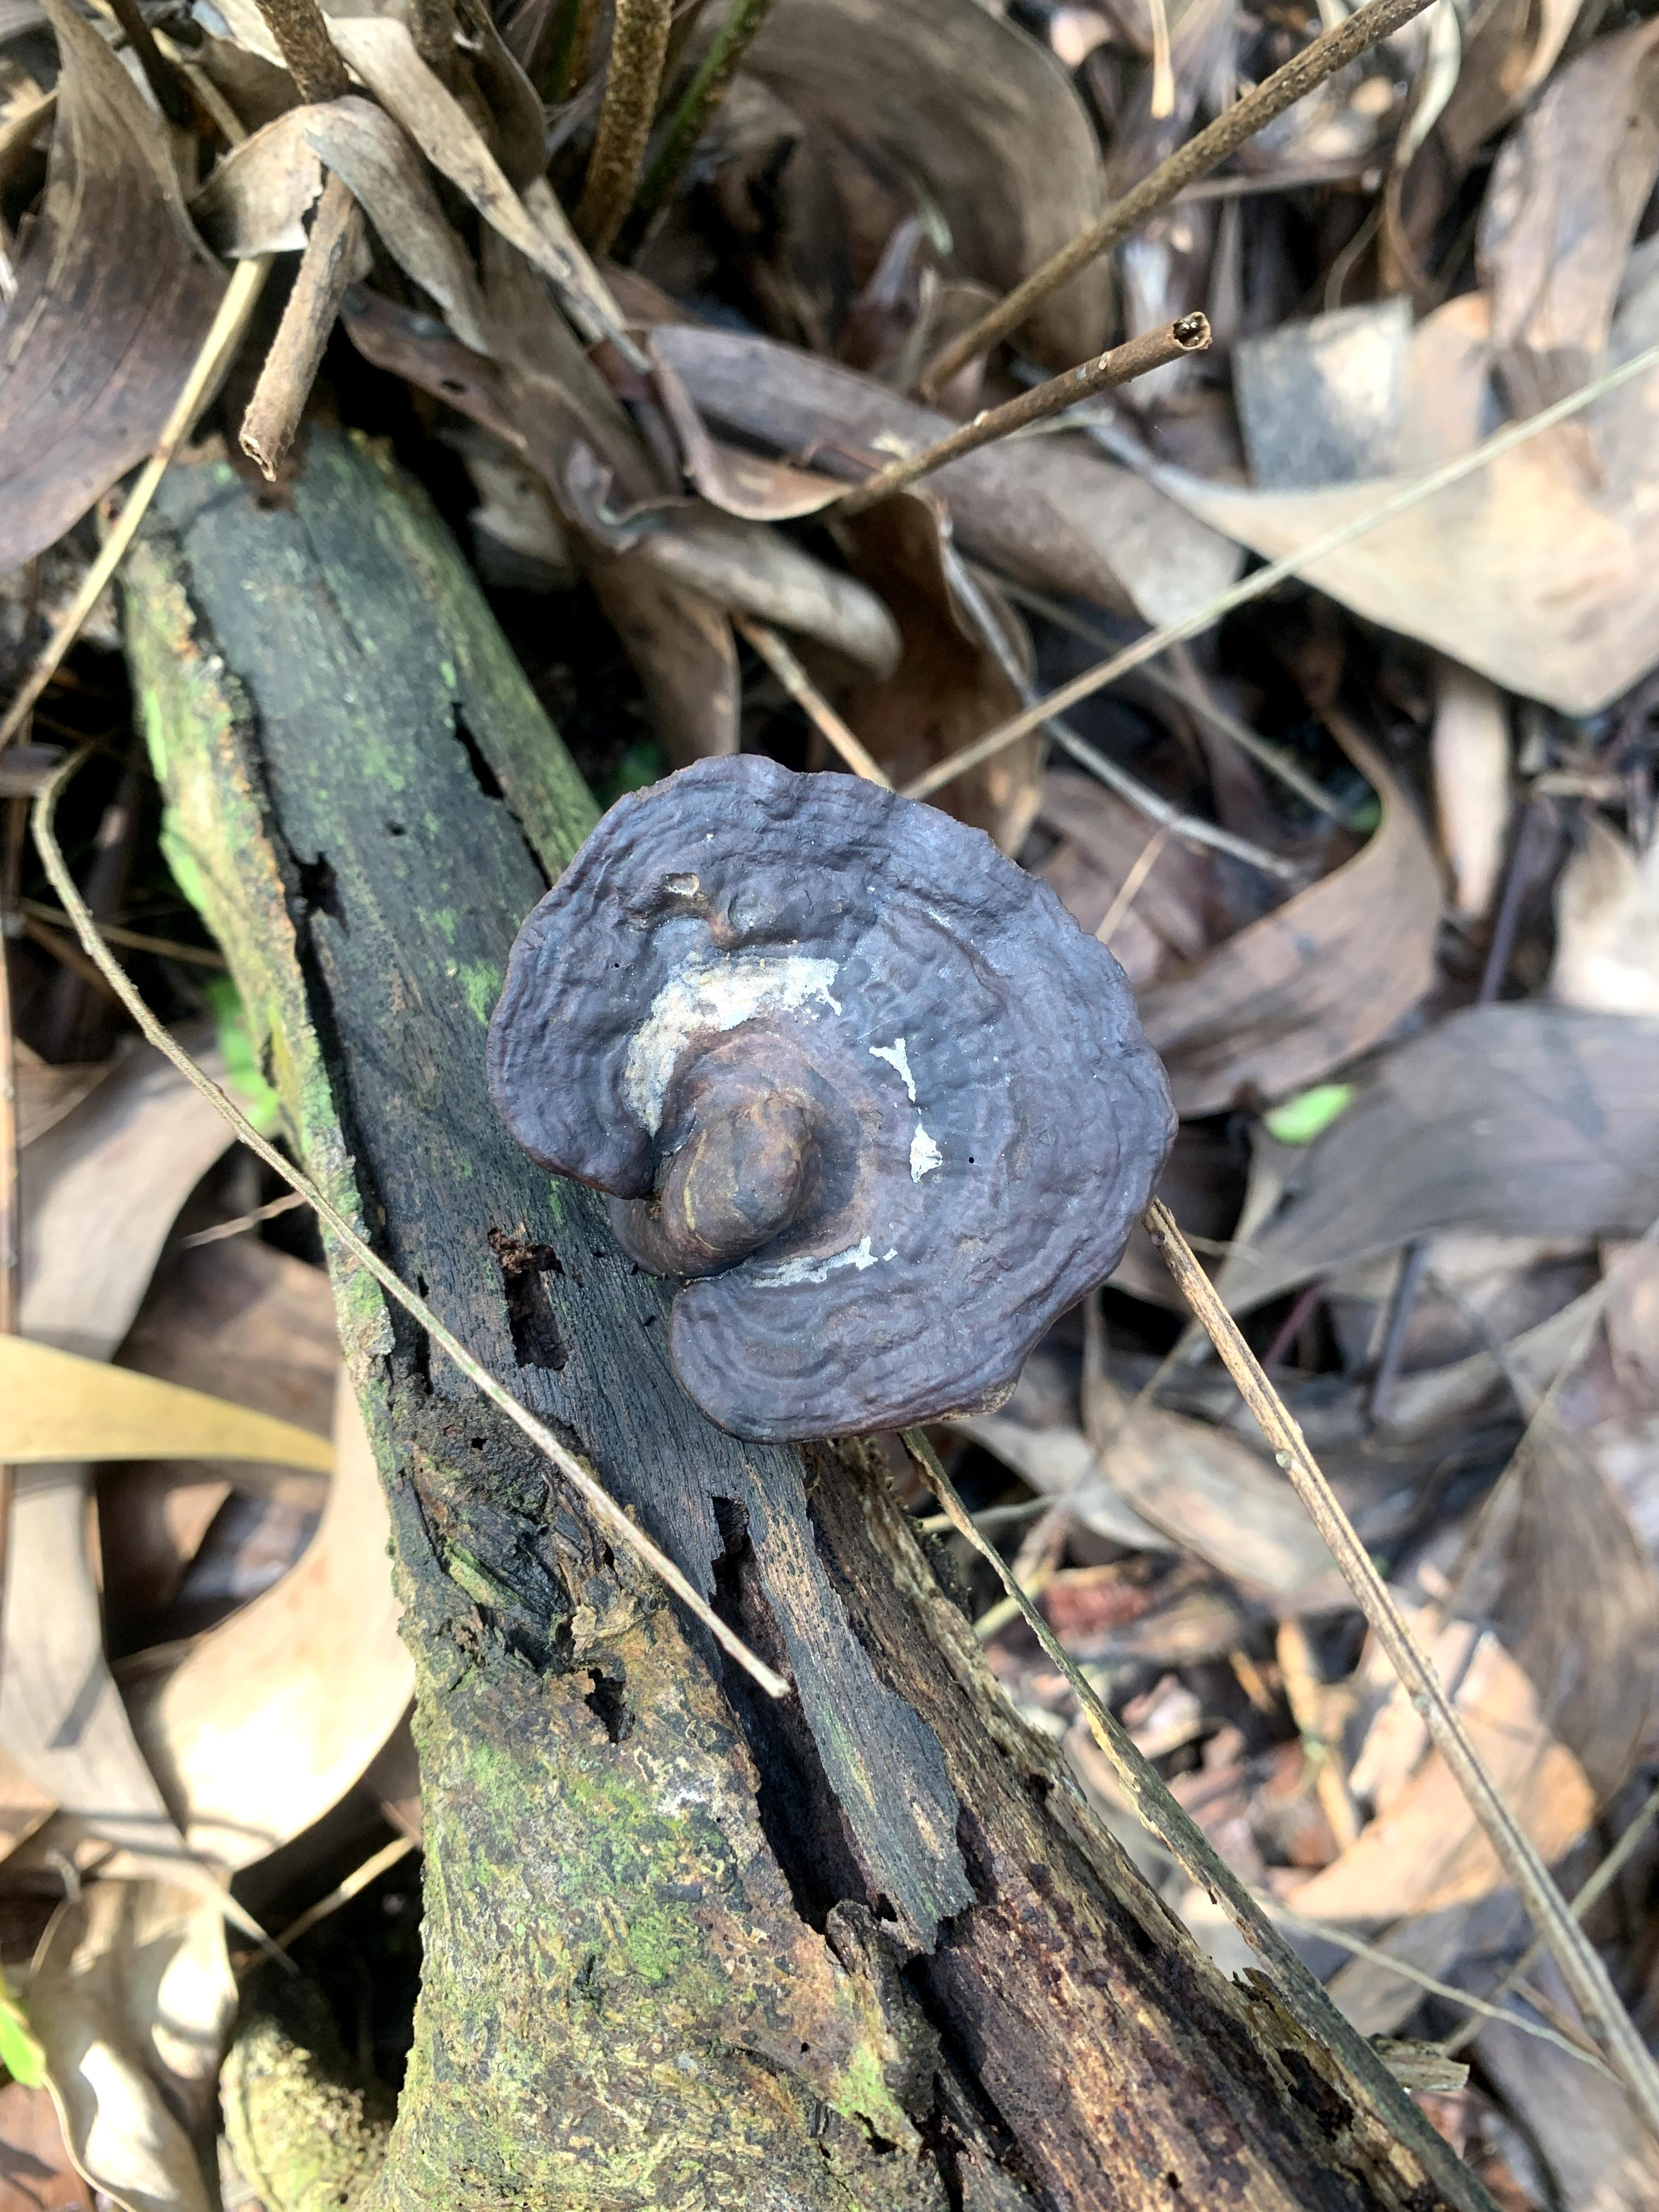Ganoderma - Fruit Body: (434, 737, 1197, 1461)
